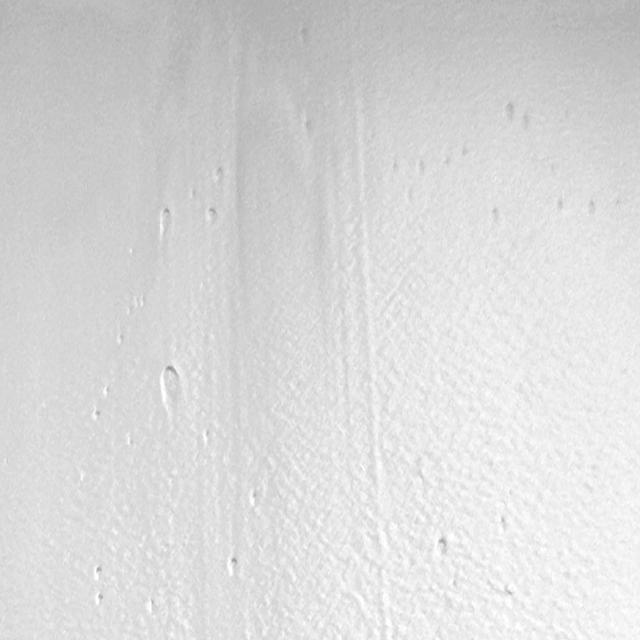pin holes: (159, 362, 187, 410), (157, 209, 176, 241), (499, 102, 518, 128), (432, 538, 452, 561), (225, 556, 243, 579), (208, 165, 226, 188), (299, 118, 317, 141), (551, 196, 569, 219), (205, 206, 220, 232), (143, 596, 159, 618), (583, 196, 597, 218), (496, 514, 510, 536), (403, 188, 416, 210), (488, 207, 502, 227), (89, 566, 104, 584), (248, 491, 261, 511), (92, 590, 105, 608), (298, 26, 308, 49), (114, 331, 126, 349), (89, 407, 101, 423), (102, 386, 114, 402), (416, 156, 424, 180), (461, 144, 469, 162)
